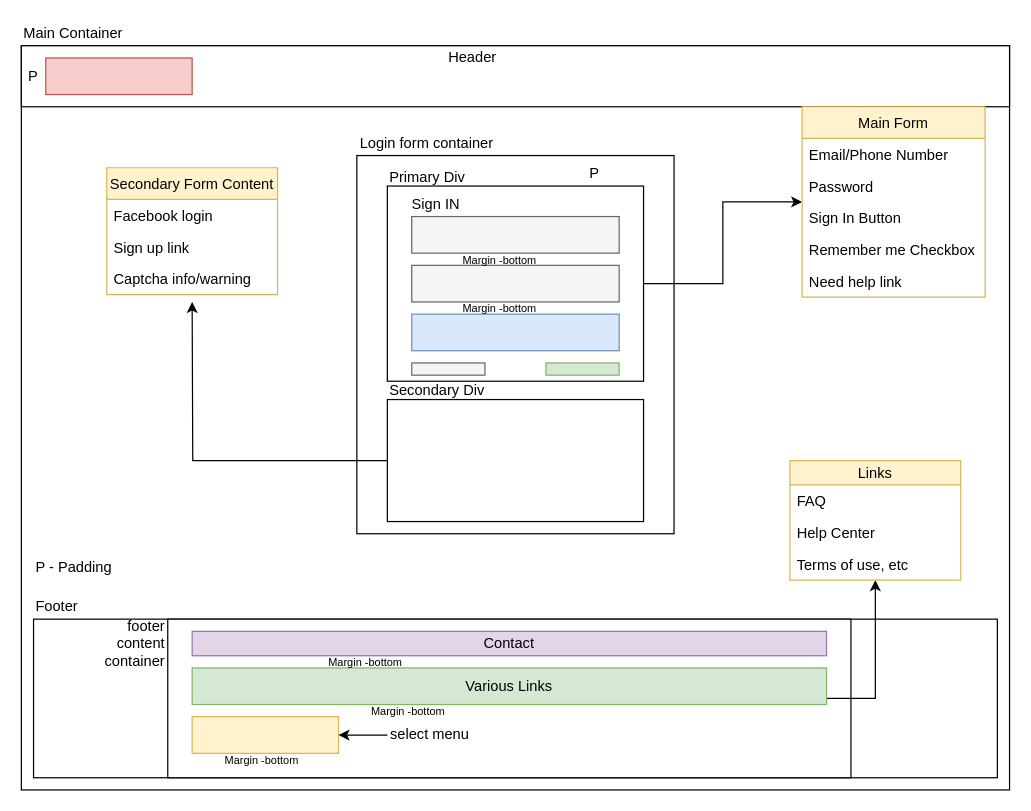
This 1031x811 diagram has some shape labels left out. The shapes that lost their labels are listed below. From the top down, each one's centre as x and y in pixels, then its label:
(118,76): Netflix Logo
(265,734): Language Selector
